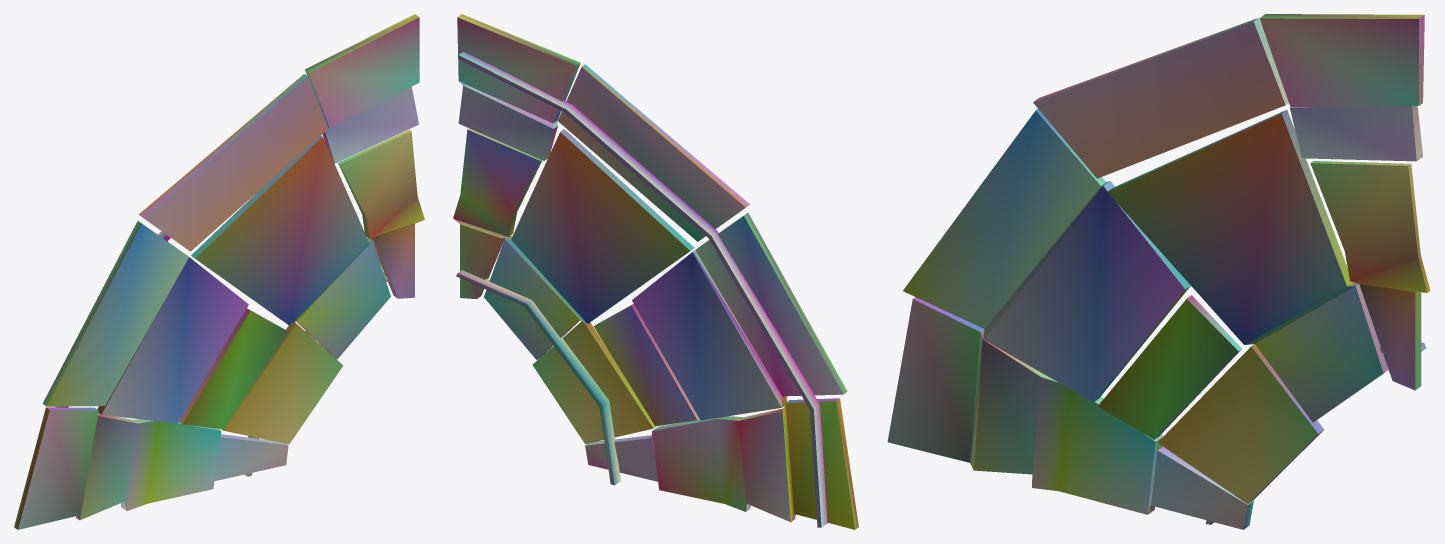
The model's file is Dock_Wide_CurveA.glb.
The picture shows the model from 3 angles, left to right: view 1: azimuth 30°, elevation 25°; view 2: azimuth 150°, elevation 25°; view 3: azimuth 330°, elevation 25°; orthographic projection. The views are drawn at different scales.
Parts seen in each view (by area): view 1: MeshNode_0; view 2: MeshNode_0; view 3: MeshNode_0.
Boxes of the visible parts, left/top/right/bottom form: MeshNode_0: left=14, top=14, right=424, bottom=529; MeshNode_0: left=453, top=14, right=858, bottom=529; MeshNode_0: left=887, top=14, right=1430, bottom=529.
Size of the model in its own units: 48.53 by 48.4 by 4.06.
